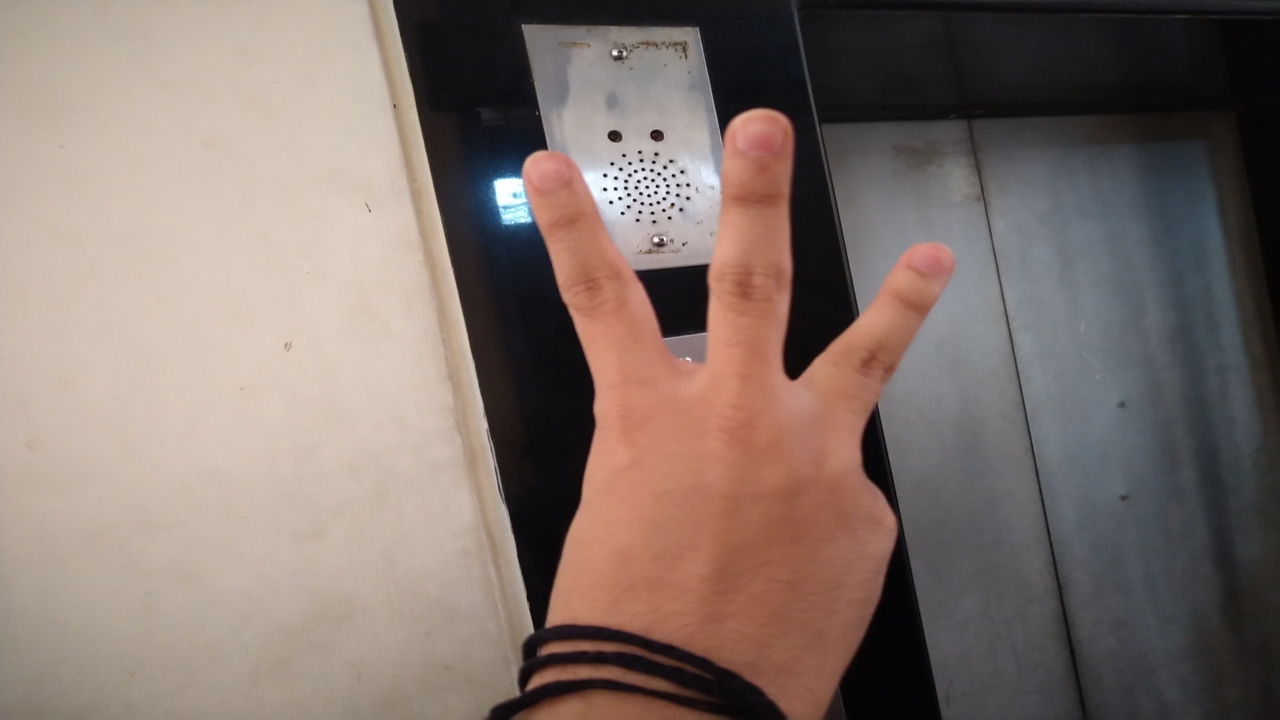fingertip: (718, 102, 798, 174), (894, 236, 964, 294), (518, 144, 584, 204)
